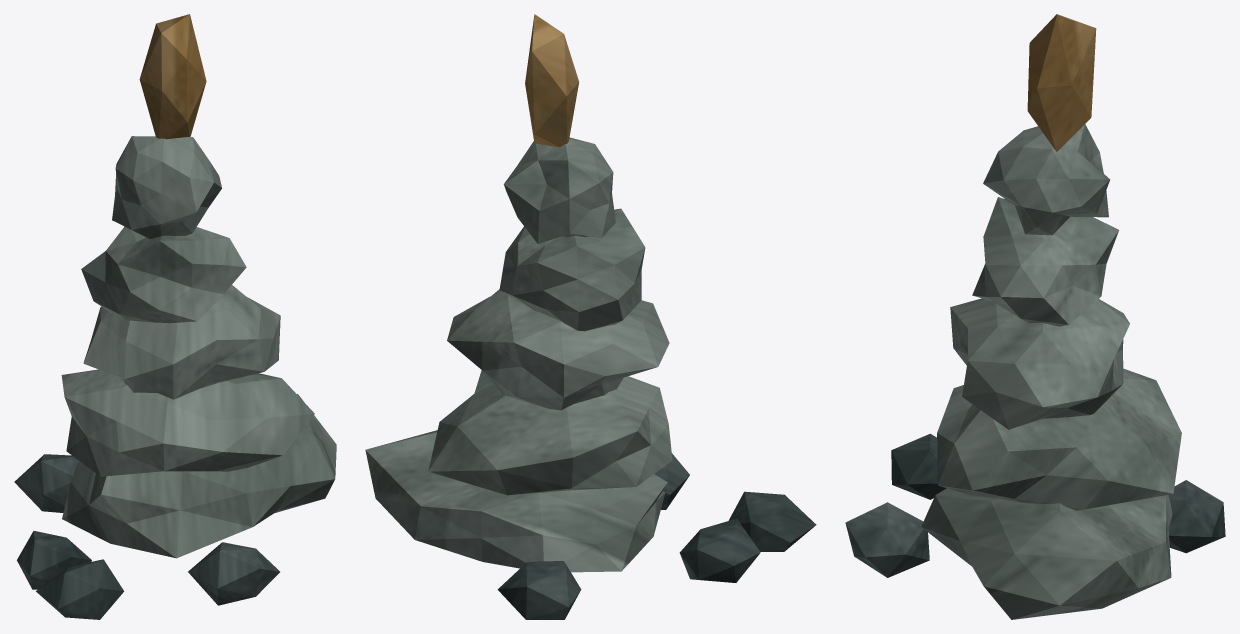
Rendered from 0602_cairn_02.glb.
The picture shows the model from 3 angles, left to right: view 1: azimuth 30°, elevation 25°; view 2: azimuth 150°, elevation 25°; view 3: azimuth 270°, elevation 25°; orthographic projection. The views are drawn at different scales.
Parts seen in each view (by area): view 1: stone, stone_dark, brass; view 2: stone, stone_dark, brass; view 3: stone, stone_dark, brass.
Part boxes in pixels (<box>): stone: <box>61,136,336,558</box>; stone_dark: <box>14,454,279,619</box>; brass: <box>139,14,206,139</box>; stone: <box>365,137,672,572</box>; stone_dark: <box>497,453,816,619</box>; brass: <box>525,14,579,147</box>; stone: <box>921,124,1181,619</box>; stone_dark: <box>845,433,1225,577</box>; brass: <box>1027,14,1096,151</box>.
Bounding box in the file's own units: 1.51 × 2.17 × 1.3.
Materials: 3 (3 with a texture image).
